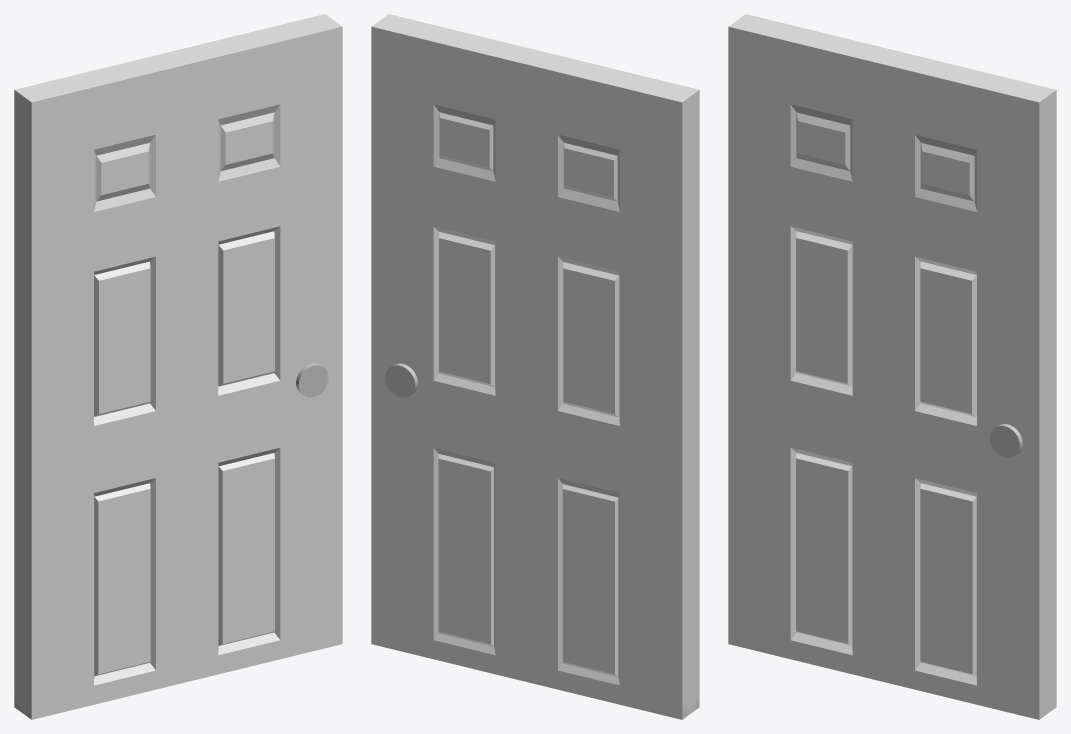
File: Puerta.fbx
3 views of the same model, side by side, from view 1: azimuth 30°, elevation 25°; view 2: azimuth 150°, elevation 25°; view 3: azimuth 330°, elevation 25° (orthographic).
Visible parts, largest first — view 1: Puerta; view 2: Puerta; view 3: Puerta.
Part boxes in pixels (x1,y1,x2,y2): Puerta: (14, 14, 342, 719); Puerta: (371, 14, 699, 719); Puerta: (728, 14, 1056, 719).
Bounding box in the file's own units: 191 × 362 × 24.23.
1 material, 1 textured.
